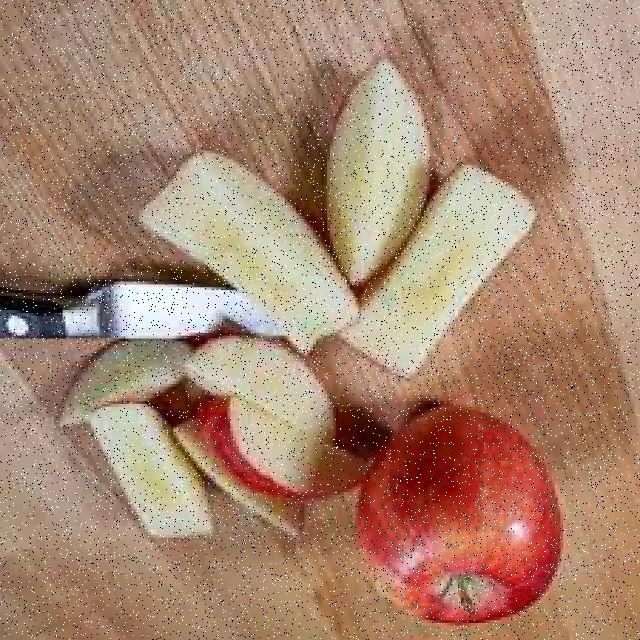Apple: (358, 400, 566, 624), (138, 147, 361, 353), (343, 161, 539, 375), (329, 60, 427, 285), (168, 412, 306, 544), (88, 403, 212, 539), (186, 335, 344, 440), (208, 394, 370, 496), (55, 336, 189, 428)
